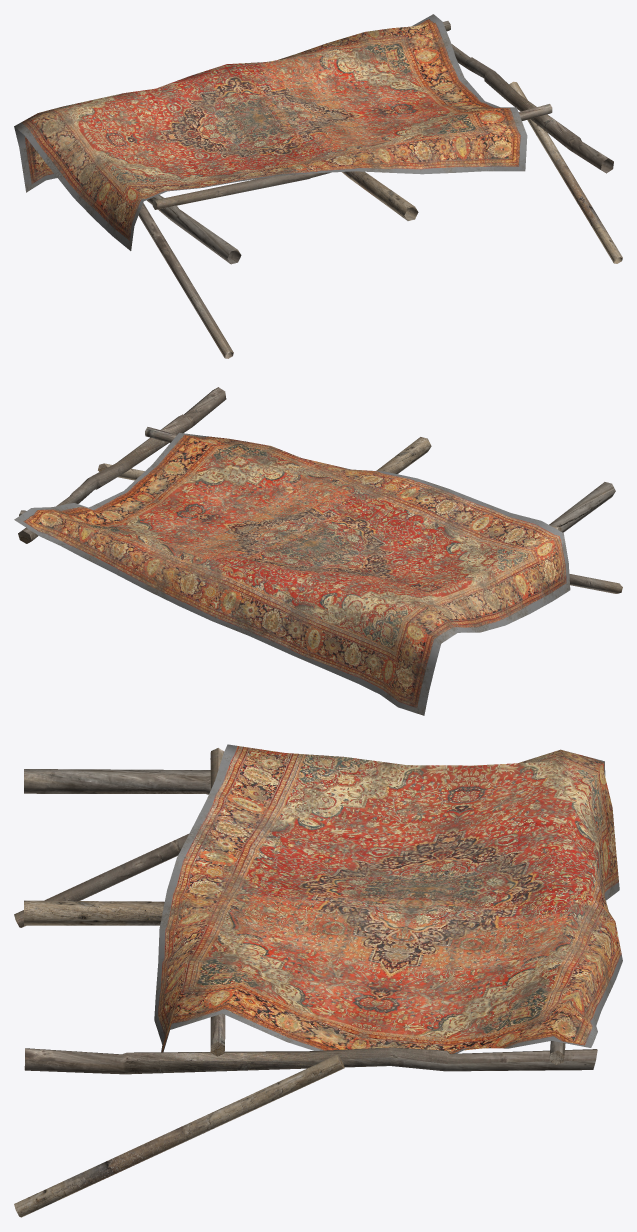
File: Fabric4.fbx
3 renders of one model, top to bottom at view 1: azimuth 30°, elevation 25°; view 2: azimuth 150°, elevation 25°; view 3: azimuth 270°, elevation 25°, orthographic. The views are drawn at different scales.
Visible parts, largest first — view 1: polySurface109; view 2: polySurface109; view 3: polySurface109.
Part boxes in pixels (box(x1,y1,x2,y2)): polySurface109: box(14, 14, 622, 358); polySurface109: box(14, 387, 622, 715); polySurface109: box(14, 744, 622, 1217).
Bounding box in the file's own units: 3.25 × 0.863 × 2.66.
